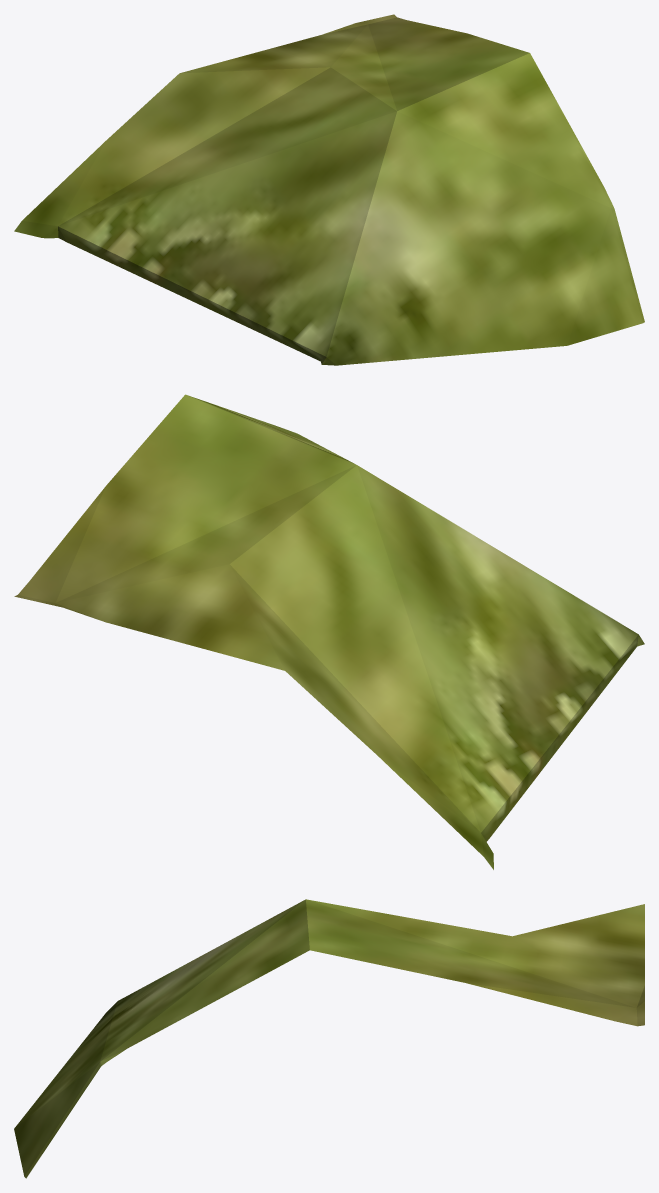
The picture shows the model from 3 angles, top to bottom: view 1: azimuth 30°, elevation 25°; view 2: azimuth 150°, elevation 25°; view 3: azimuth 270°, elevation 25°; orthographic projection. The views are drawn at different scales.
Size of the model in its own units: 0.2275 by 0.1057 by 0.2648.
1 material, 1 textured.
